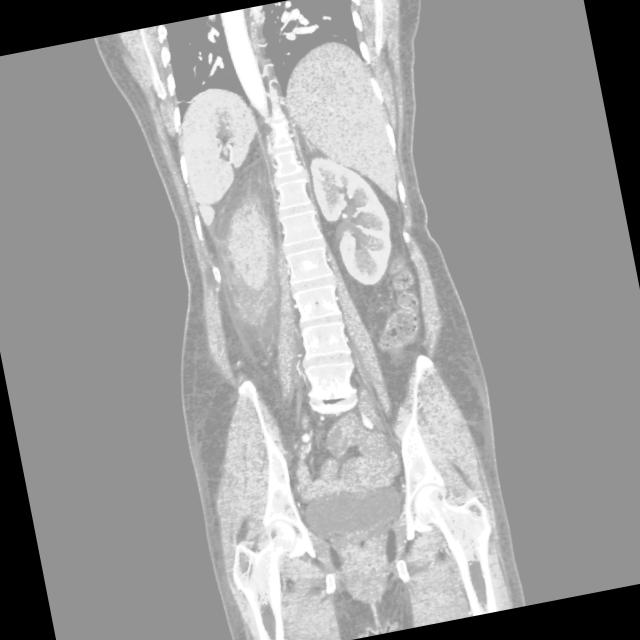TUMOR: (46, 167, 354, 452)
